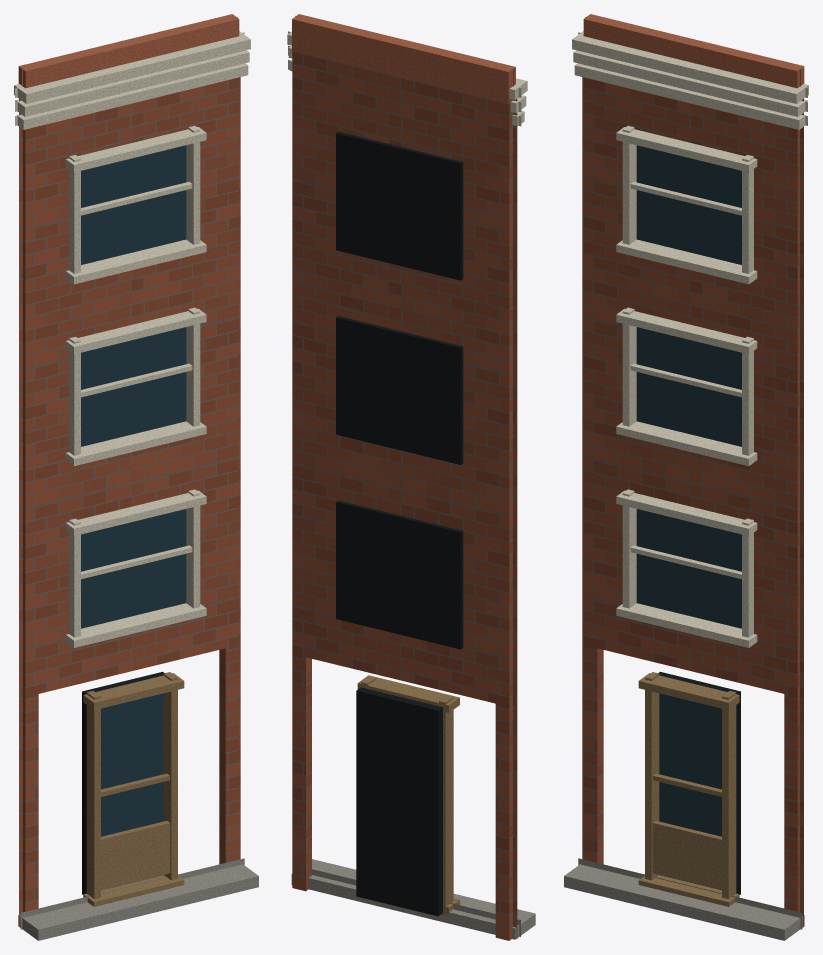
File: OFFC16_lod2.glb
The picture shows the model from 3 angles, left to right: view 1: azimuth 30°, elevation 25°; view 2: azimuth 150°, elevation 25°; view 3: azimuth 330°, elevation 25°; orthographic projection.
Parts seen in each view (by area): view 1: OFFC16_FRONT_LOD2; view 2: OFFC16_FRONT_LOD2; view 3: OFFC16_FRONT_LOD2.
Part boxes in pixels (left/top/right/bottom): OFFC16_FRONT_LOD2: left=14, top=14, right=258, bottom=940; OFFC16_FRONT_LOD2: left=287, top=14, right=535, bottom=940; OFFC16_FRONT_LOD2: left=564, top=14, right=808, bottom=940.
Bounding box in the file's own units: 3.44 × 12.26 × 0.68.
Materials: 8 (6 with a texture image).
